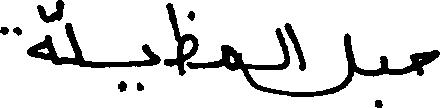X: (0, 0, 54, 68), (308, 28, 354, 101), (165, 0, 197, 80), (285, 18, 306, 101), (412, 45, 439, 80), (67, 18, 83, 71), (143, 39, 157, 94), (221, 40, 240, 75), (275, 23, 283, 99), (381, 51, 387, 107)
